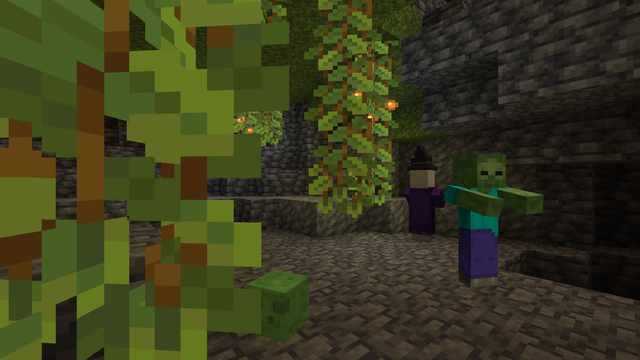slimes: (247, 267, 311, 345)
sorcieres: (405, 166, 437, 243)
zombies: (449, 156, 505, 294)
